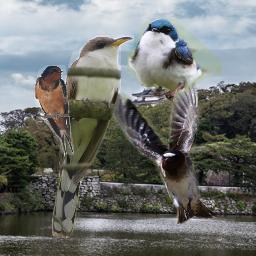Cuckoo: (52, 35, 134, 238)
Swallow: (109, 63, 219, 224), (127, 18, 222, 102), (34, 65, 74, 155)
